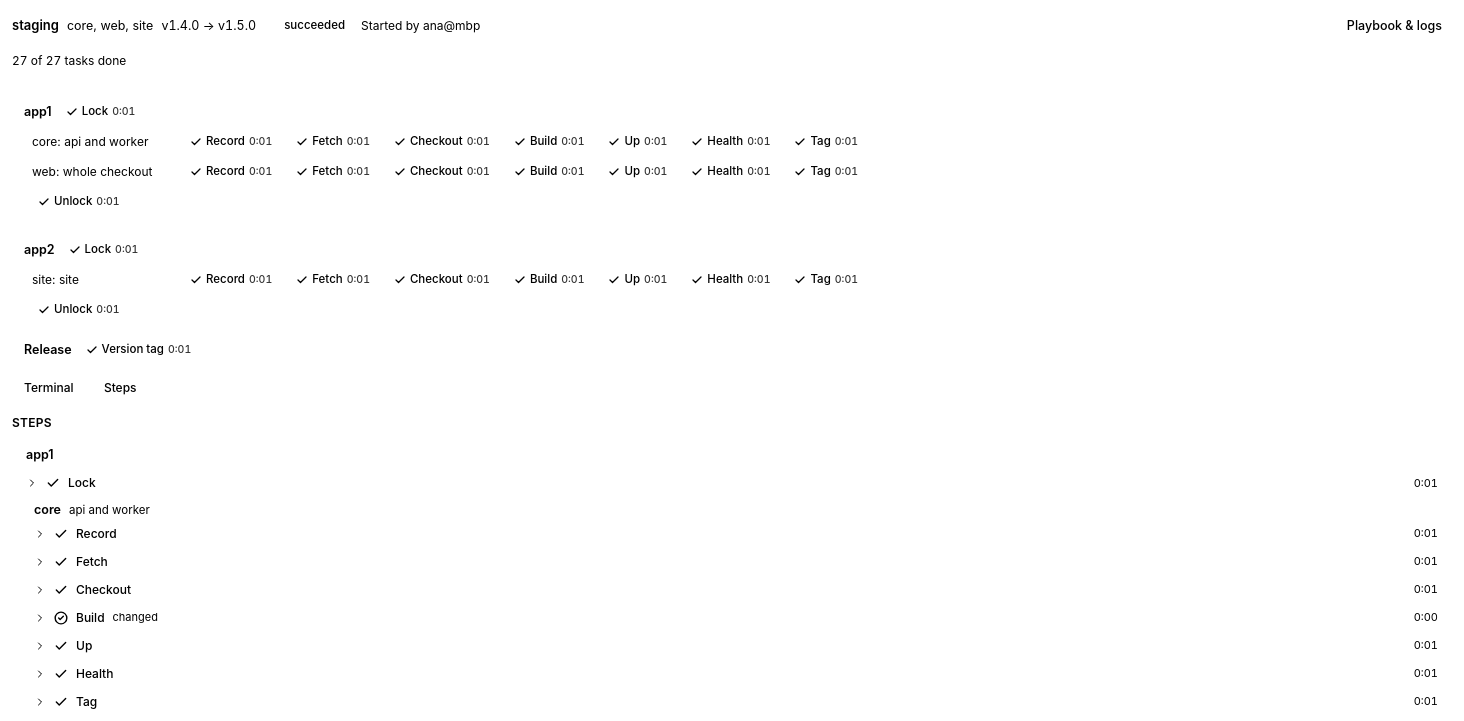
Test: Ansible steps in the release view › clicking a row opens its output, with a way to the full log
Expected: the text "built" is not shown
Click the button with aria-label "Build on app1: changed".
click(135, 617)  # box top-left (28, 604), bottom-right (1444, 632)
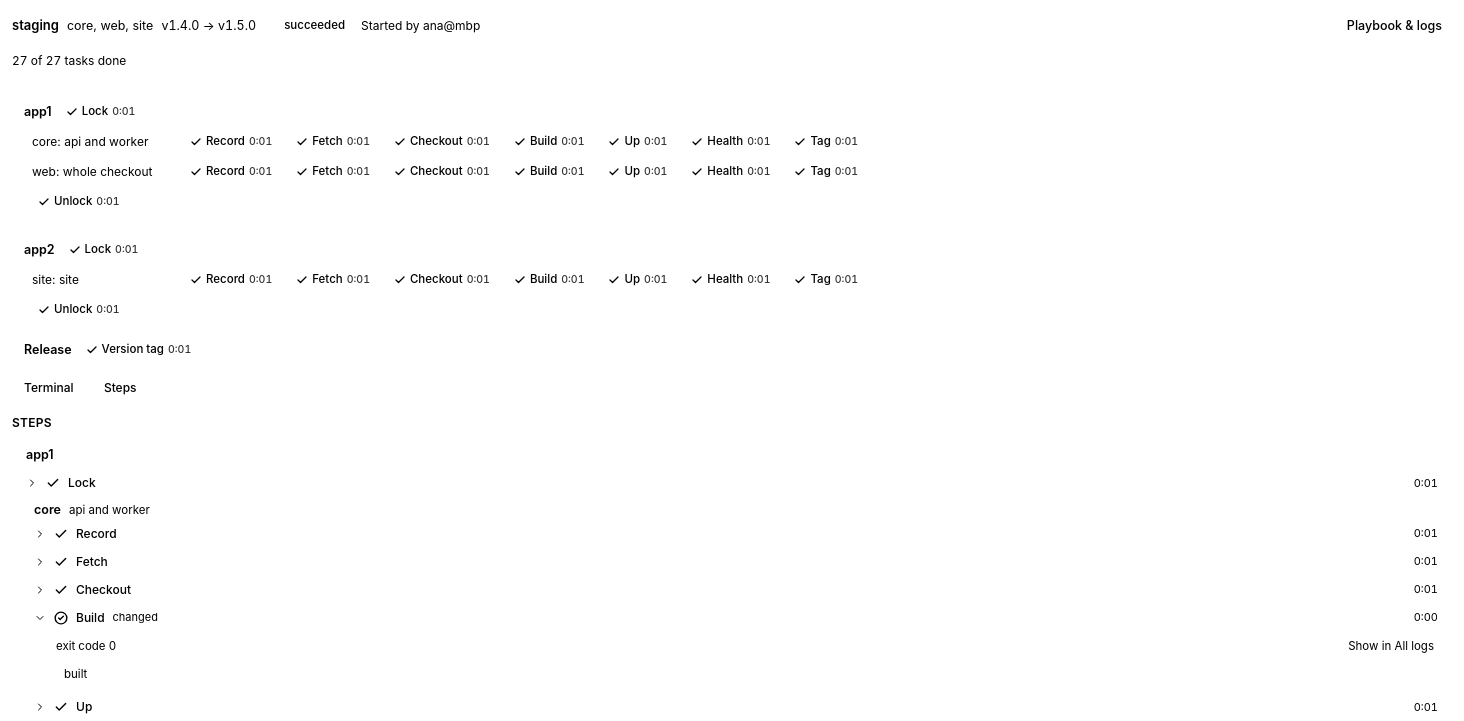
Expected: the text "built" is shown, top-left (64, 667), bottom-right (87, 681)
Expected: the text "exit code 0" is shown, top-left (56, 638), bottom-right (116, 655)
Expected: the button "Show in All logs" is shown, top-left (1342, 638), bottom-right (1440, 655)
Click the button with aria-label "Build on app1: changed".
click(135, 617)  # box top-left (28, 604), bottom-right (1444, 632)
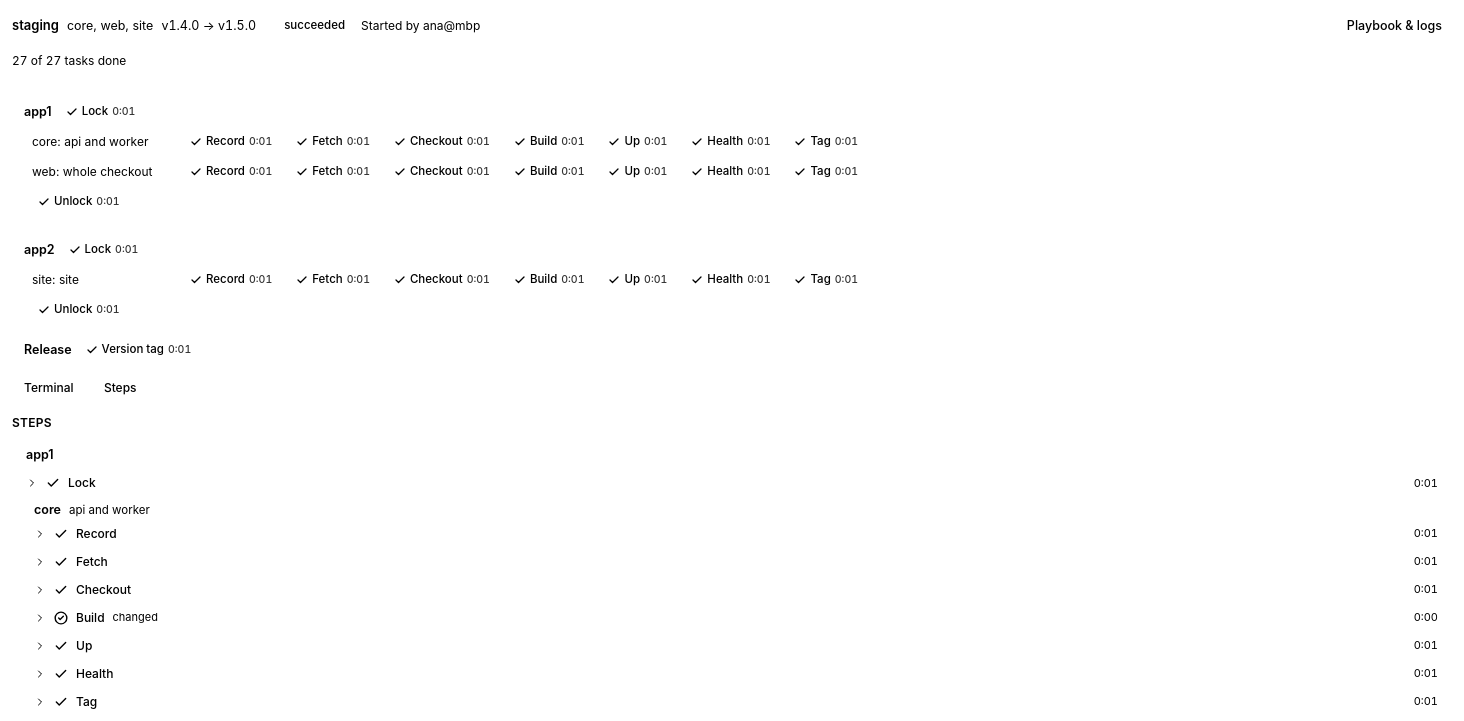
Expected: the text "built" is gone
